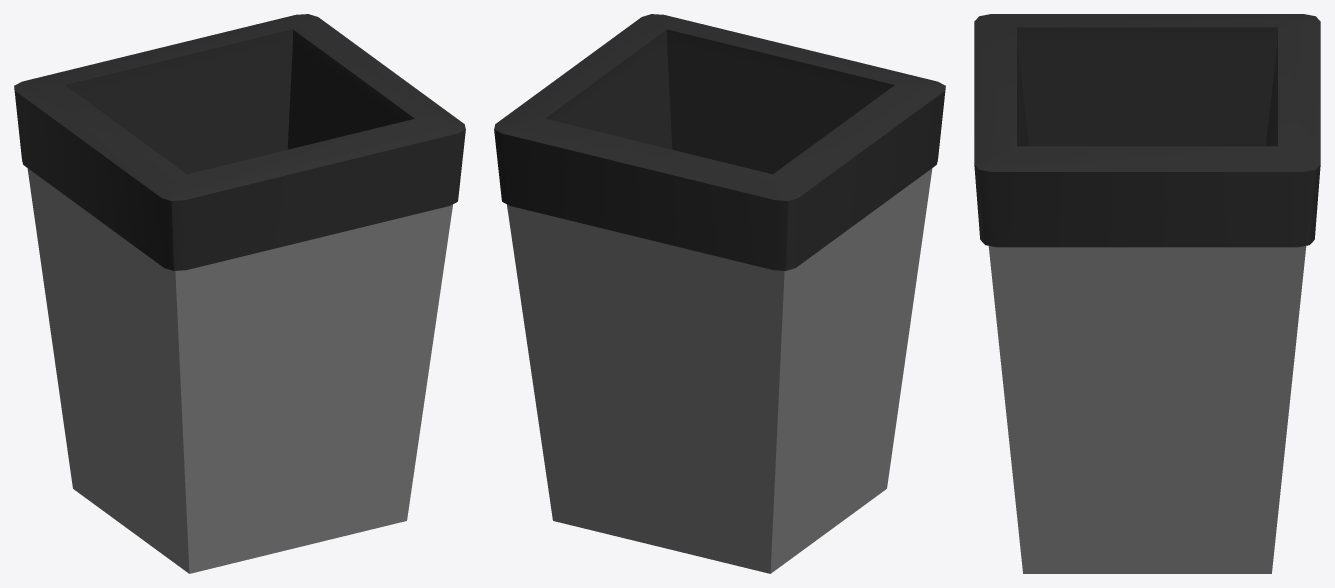
Rendered from TrashCan.fbx.
3 views of the same model, side by side, from view 1: azimuth 30°, elevation 25°; view 2: azimuth 150°, elevation 25°; view 3: azimuth 270°, elevation 25° (orthographic). The views are drawn at different scales.
Parts seen in each view (by area): view 1: TrashCan; view 2: TrashCan; view 3: TrashCan.
Part boxes in pixels (box(x1,y1,x2,y2)): TrashCan: box(14, 14, 465, 573); TrashCan: box(494, 14, 945, 573); TrashCan: box(974, 14, 1320, 573).
Bounding box in the file's own units: 42.83 × 54.43 × 39.71.
